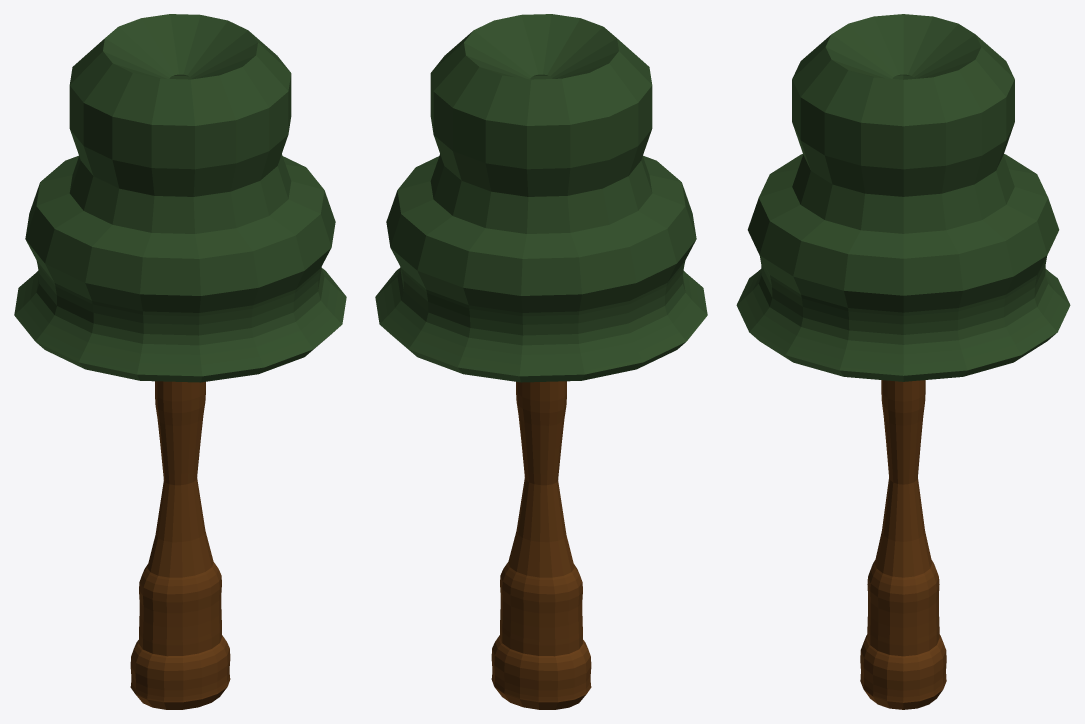
The model's file is treegreenFBX.fbx.
3 renders of one model, left to right at view 1: azimuth 30°, elevation 25°; view 2: azimuth 150°, elevation 25°; view 3: azimuth 270°, elevation 25°, orthographic.
Parts seen in each view (by area): view 1: 開いた線形状の回転体_ncl1_1, 開いた線形状の回転体; view 2: 開いた線形状の回転体_ncl1_1, 開いた線形状の回転体; view 3: 開いた線形状の回転体_ncl1_1, 開いた線形状の回転体.
Part boxes in pixels (x1,y1,x2,y2): 開いた線形状の回転体_ncl1_1: [14, 14, 346, 382]; 開いた線形状の回転体: [130, 381, 230, 709]; 開いた線形状の回転体_ncl1_1: [375, 14, 707, 382]; 開いた線形状の回転体: [491, 381, 591, 709]; 開いた線形状の回転体_ncl1_1: [736, 14, 1070, 381]; 開いた線形状の回転体: [860, 380, 946, 709].
Size of the model in its own units: 150 by 319 by 150.
